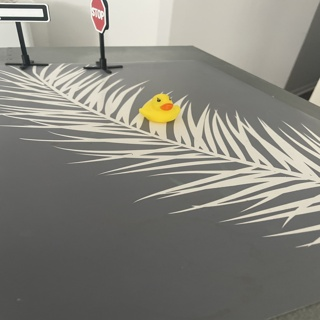duck_regular: (137, 93, 177, 119)
